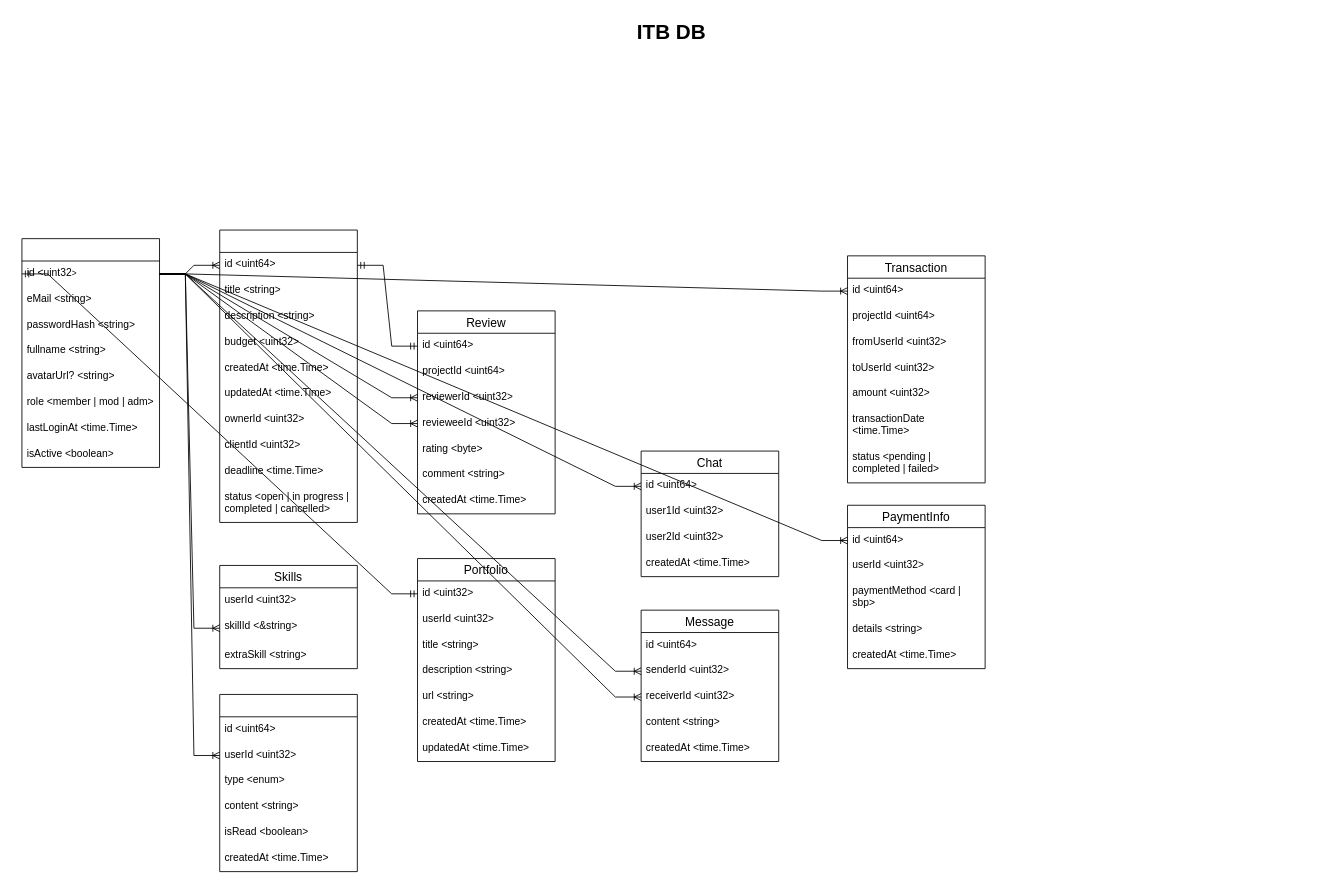
The diagram is 1336 pixels wide and 888 high, and some of its shapes have lost their labels. The box of each missing label's shape, as (x1, y1, x2, y2) in pixels:
Notification: (219, 694, 357, 872)
Project: (219, 229, 357, 522)
User: (21, 238, 160, 467)
